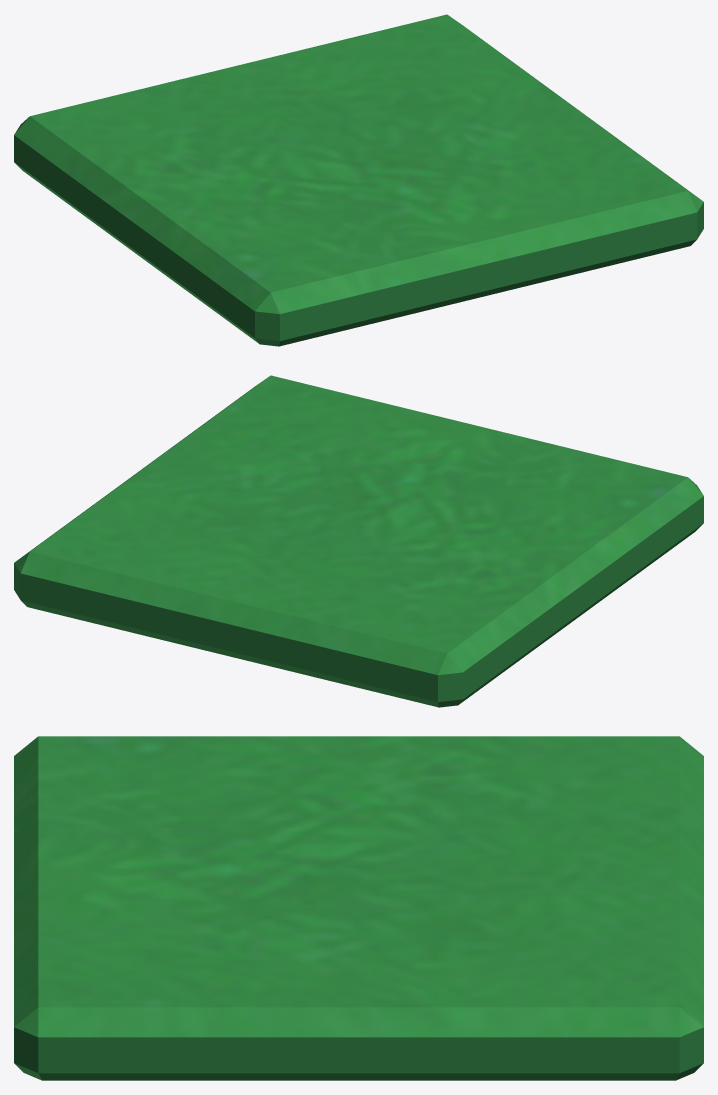
File: Map_theme02_04.fbx
3 renders of one model, top to bottom at view 1: azimuth 30°, elevation 25°; view 2: azimuth 150°, elevation 25°; view 3: azimuth 270°, elevation 25°, orthographic. The views are drawn at different scales.
Visible parts, largest first — view 1: Map_theme02_04; view 2: Map_theme02_04; view 3: Map_theme02_04.
Boxes of the visible parts, bbox=[...] form: Map_theme02_04: bbox=[14, 14, 703, 346]; Map_theme02_04: bbox=[14, 375, 703, 707]; Map_theme02_04: bbox=[14, 736, 703, 1080].
Bounding box in the file's own units: 0.9053 × 0.0976 × 0.9053.
